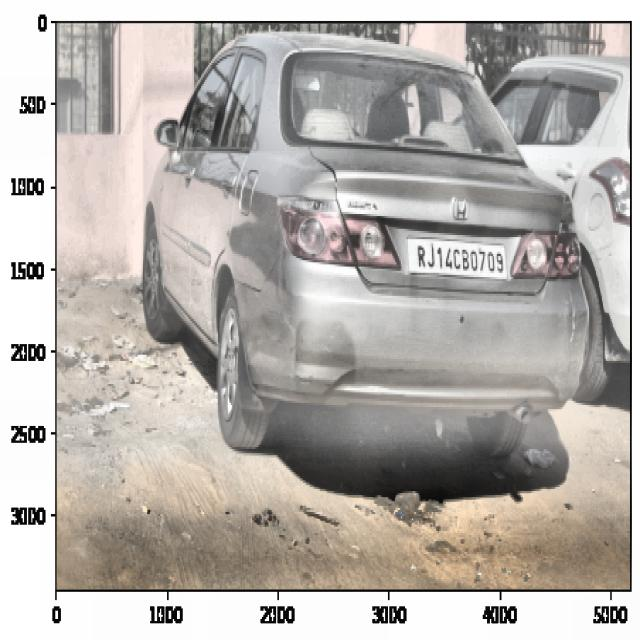license_plate: (411, 240, 508, 278)
